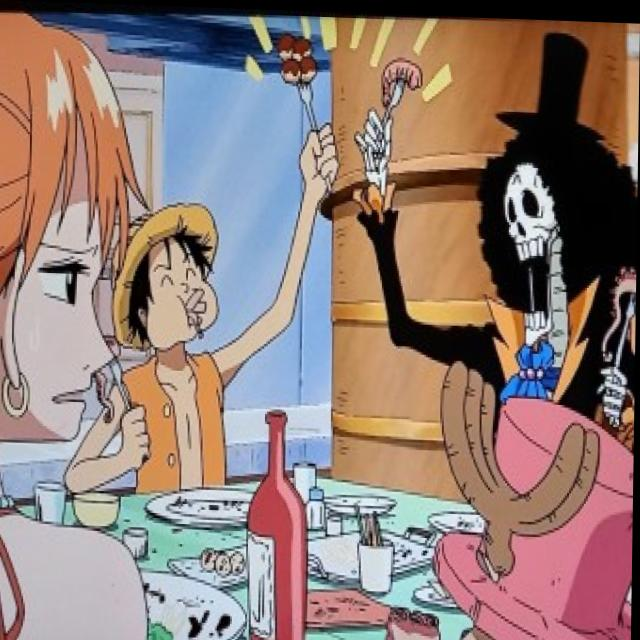Blook: (459, 105, 639, 354)
Chyopa: (423, 351, 636, 640)
Luffy: (103, 189, 236, 358)
Nami: (0, 8, 121, 454)
